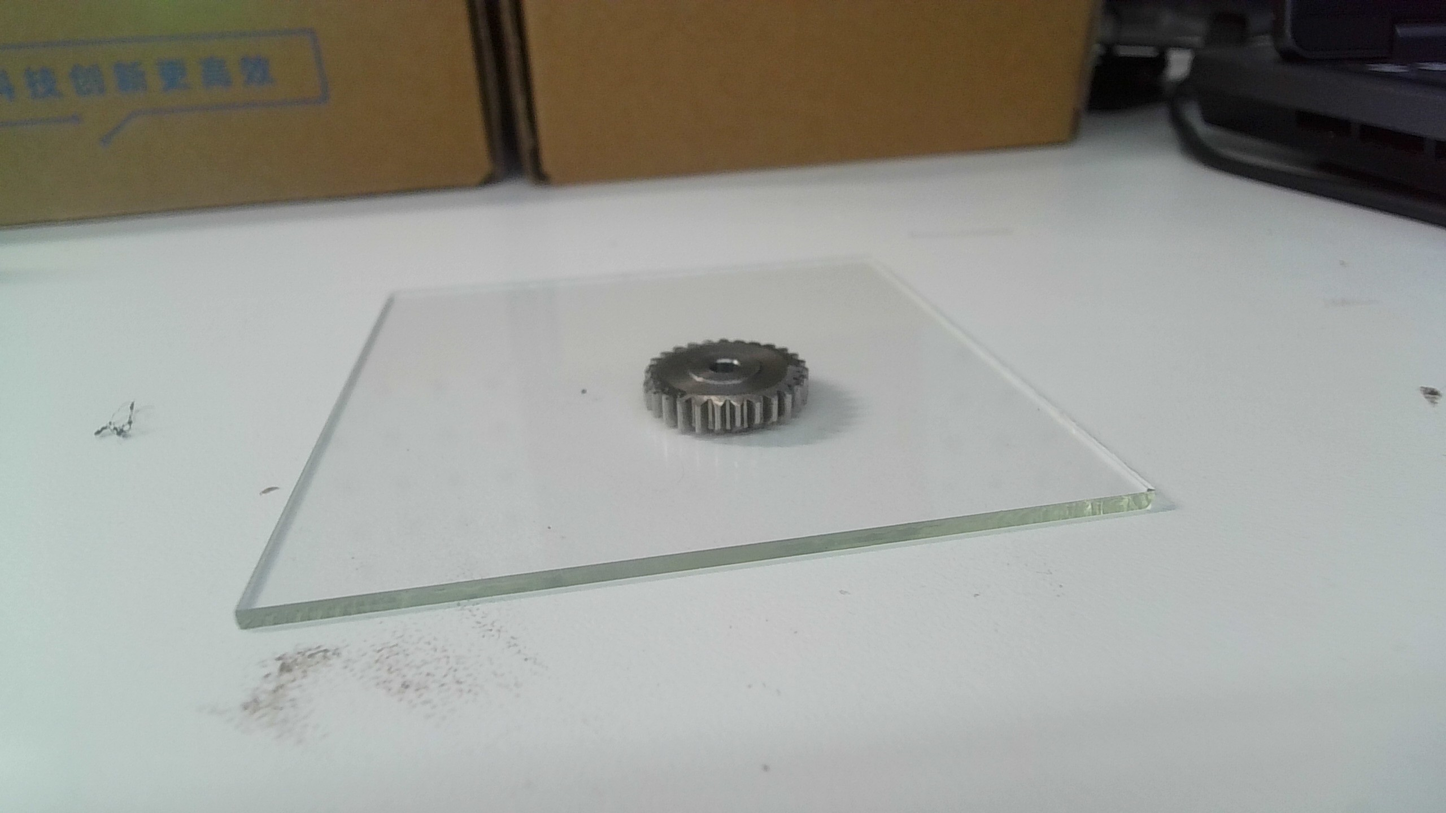gear: (641, 335, 812, 437)
